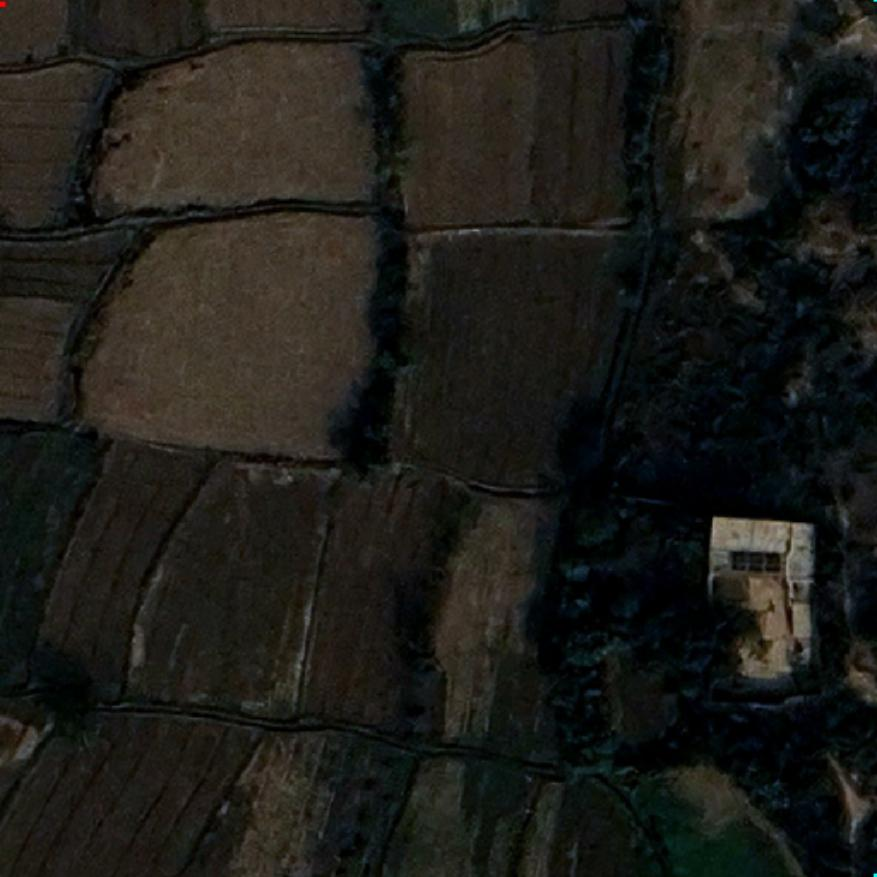Solarpanel: (728, 548, 784, 574)
